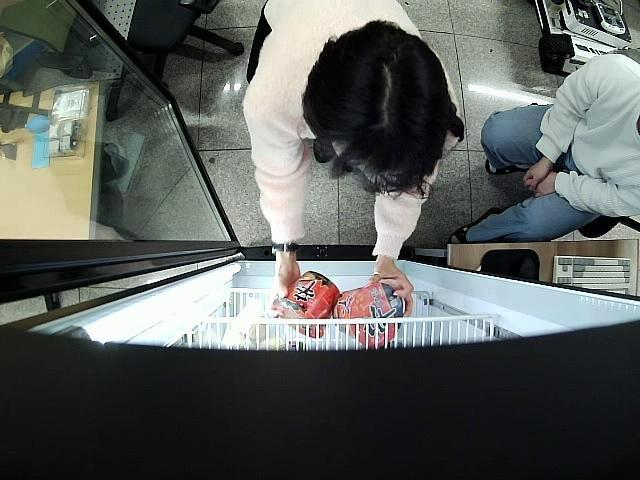01_ShinRamen_L: (272, 271, 338, 338), (334, 284, 405, 344)
